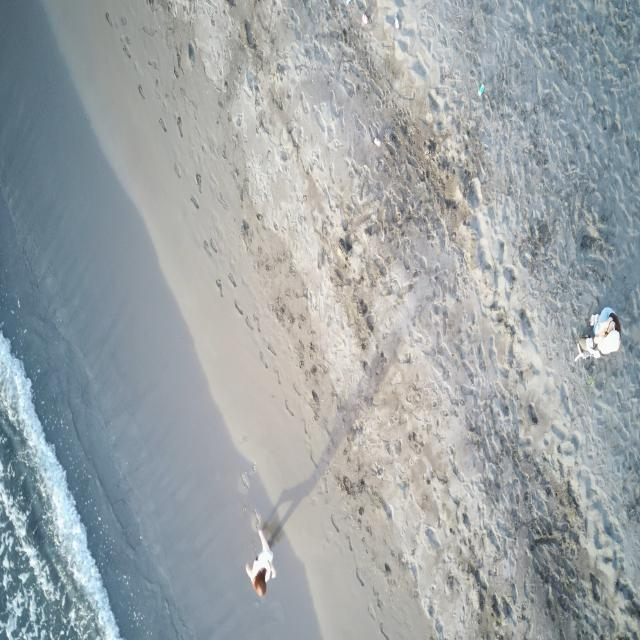Garbage: (477, 84, 484, 96)
